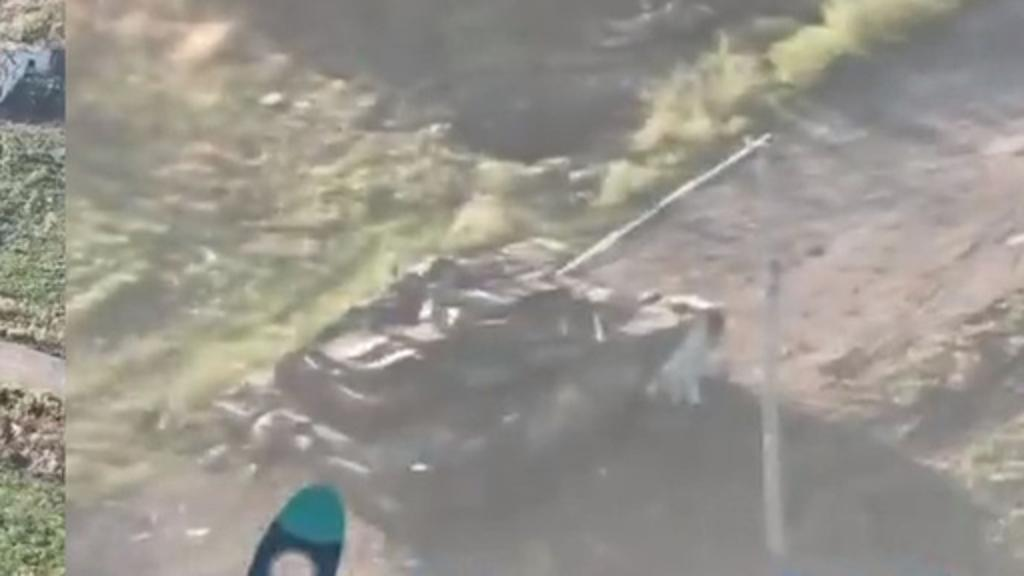TANK: (216, 128, 778, 530)
